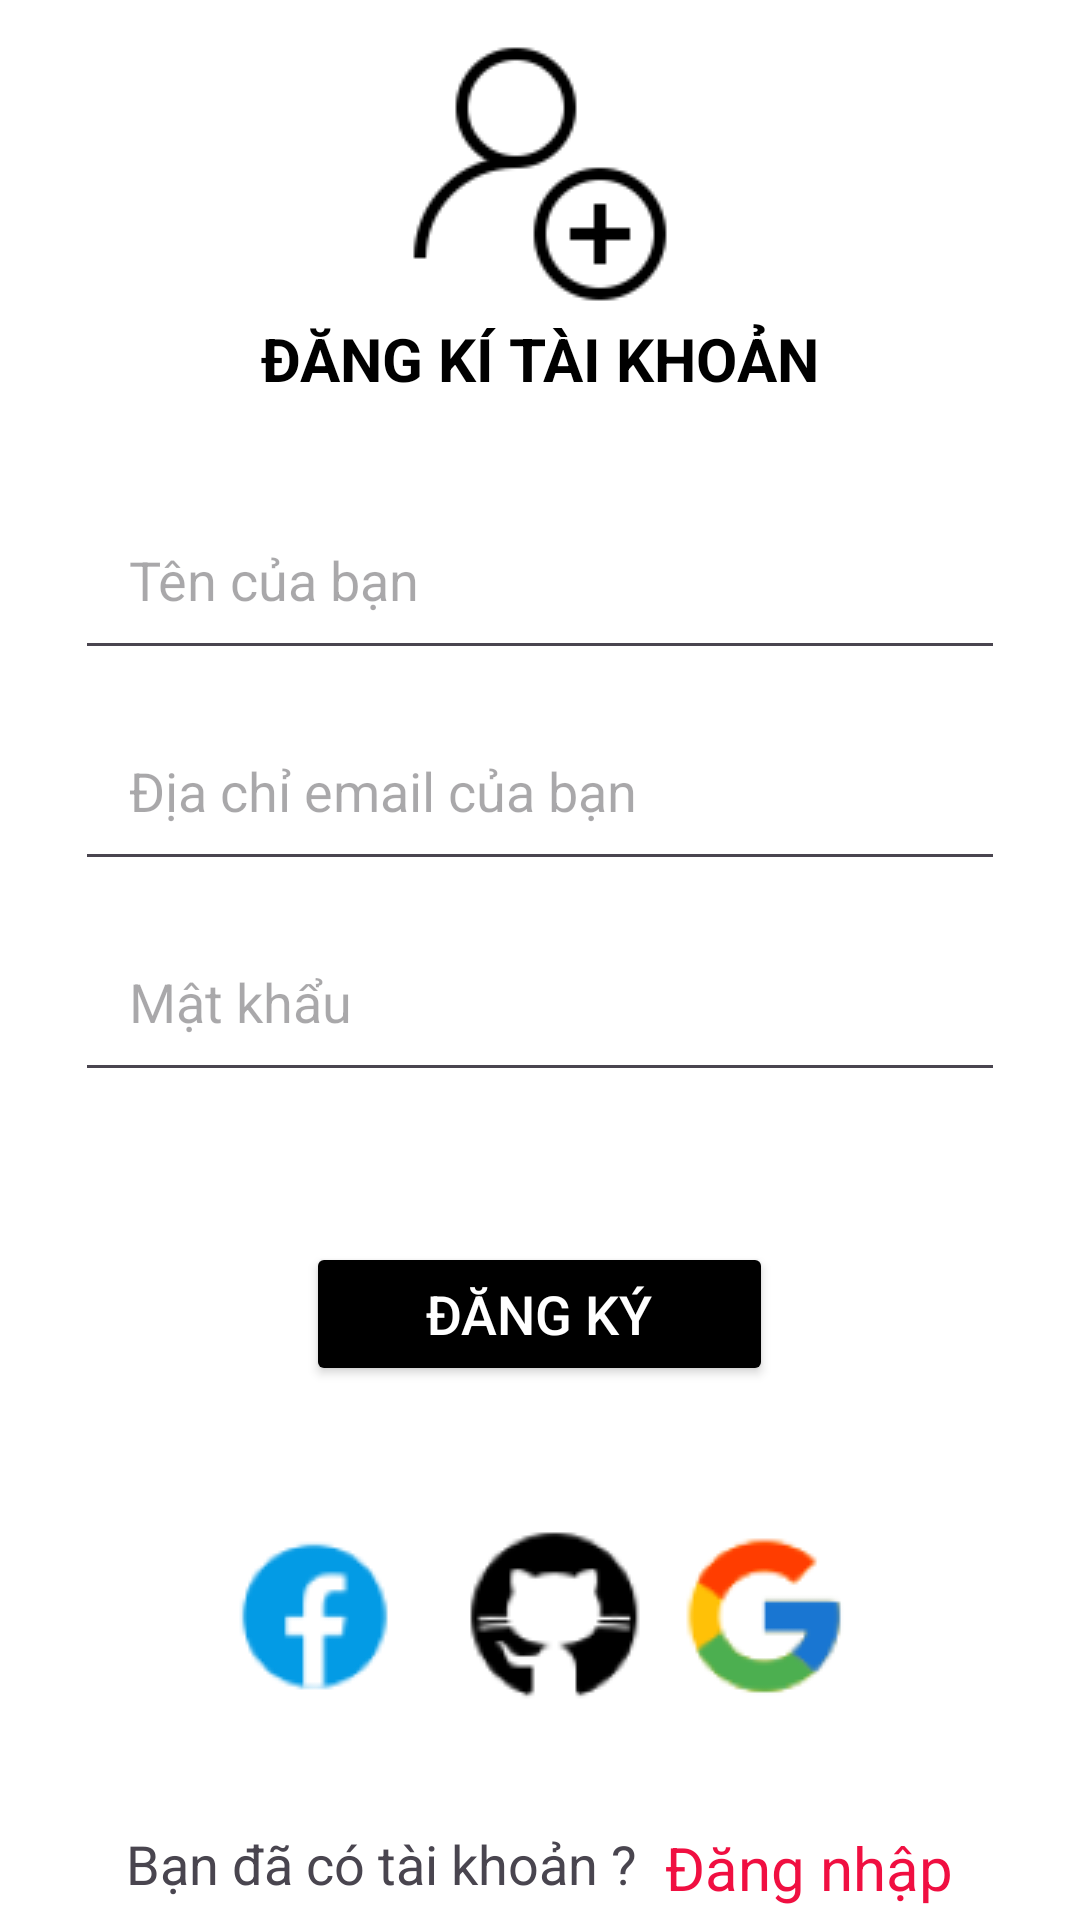

Screen size 1080 x 1920. Icon name, then its box in pixels as (x1=x1, y1=y1, x2=x2, y2=y2):
user plus: (x1=413, y1=47, x2=667, y2=301)
